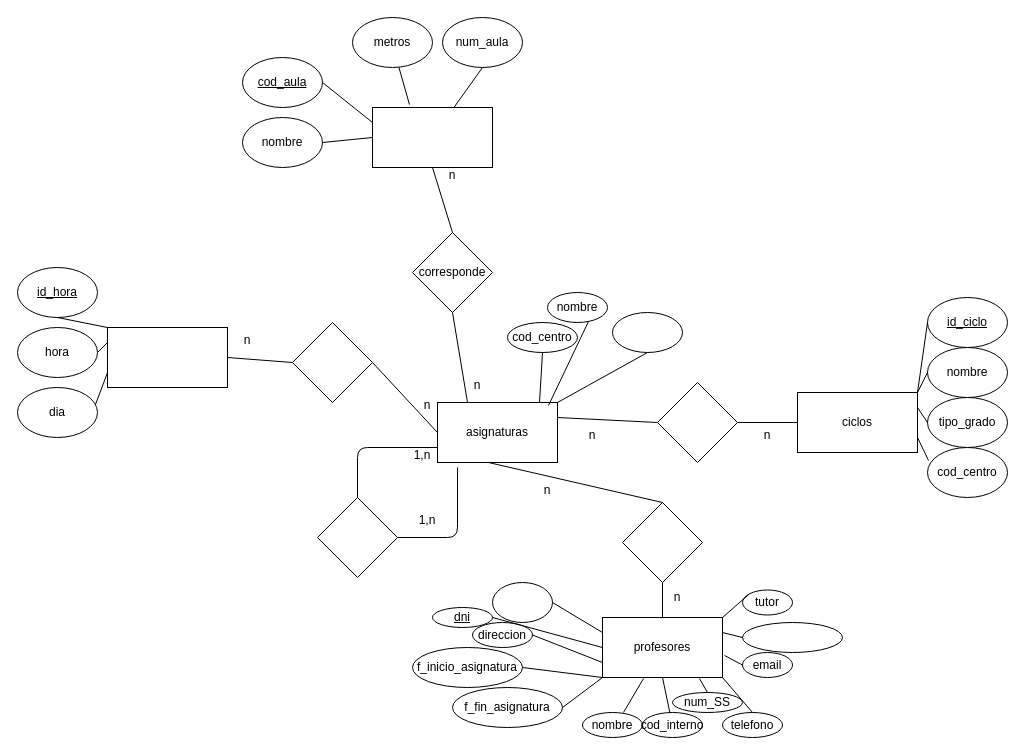
Some shapes in this 1025 by 755 pixel diagram are drawn without their labels. Here are the shapes that lost their labels. From the top down, the centre of each, then its label:
At pixel 432 137: "aula".
At pixel 647 332: "cod_europeo".
At pixel 167 357: "horario".
At pixel 332 362: "pertenece".
At pixel 697 422: "tiene".
At pixel 357 537: "necesitan".
At pixel 662 542: "imparte".
At pixel 522 602: "antiguedad".
At pixel 792 637: "antiguedad_tutor".
